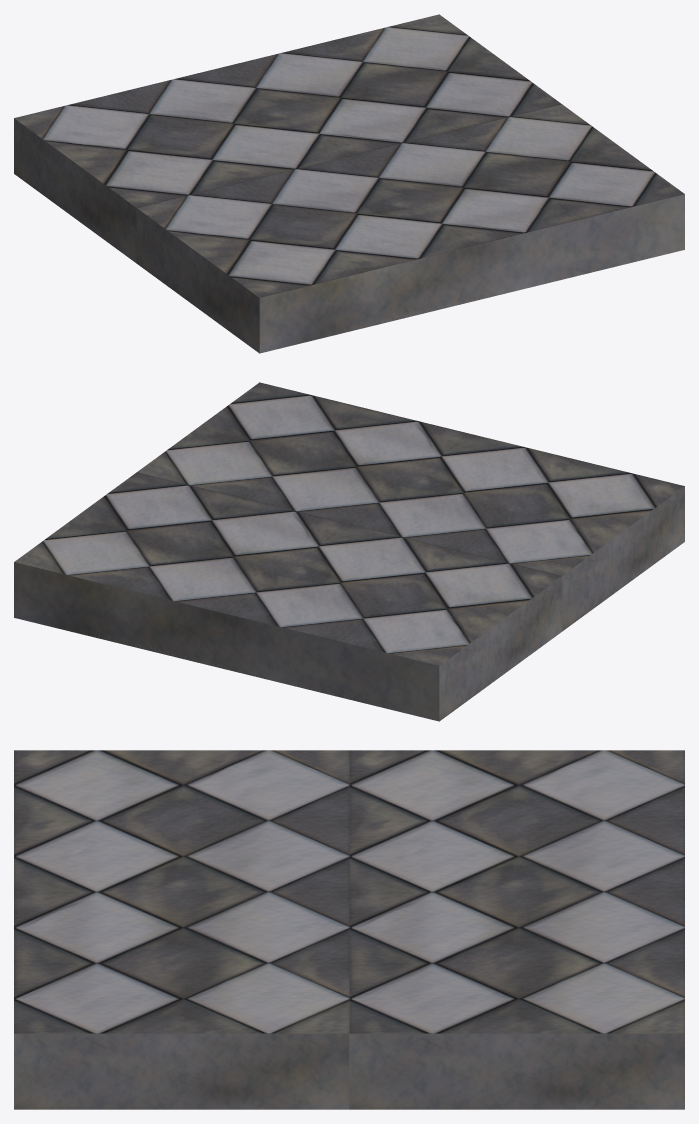
Rendered from floor_02.fbx.
3 renders of one model, top to bottom at view 1: azimuth 30°, elevation 25°; view 2: azimuth 150°, elevation 25°; view 3: azimuth 270°, elevation 25°, orthographic. The views are drawn at different scales.
Visible parts, largest first — view 1: floor_02; view 2: floor_02; view 3: floor_02.
Part boxes in pixels (x1,y1,x2,y2): floor_02: (14,14,684,353); floor_02: (14,382,684,721); floor_02: (14,750,684,1109).
Bounding box in the file's own units: 800 × 100 × 800.
